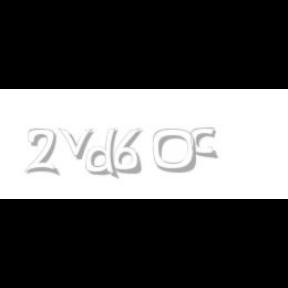2: (24, 128, 58, 176)
6: (112, 128, 142, 176)
O: (152, 128, 198, 174)
c: (190, 128, 220, 160)
d: (86, 128, 122, 180)
v: (58, 128, 98, 160)
